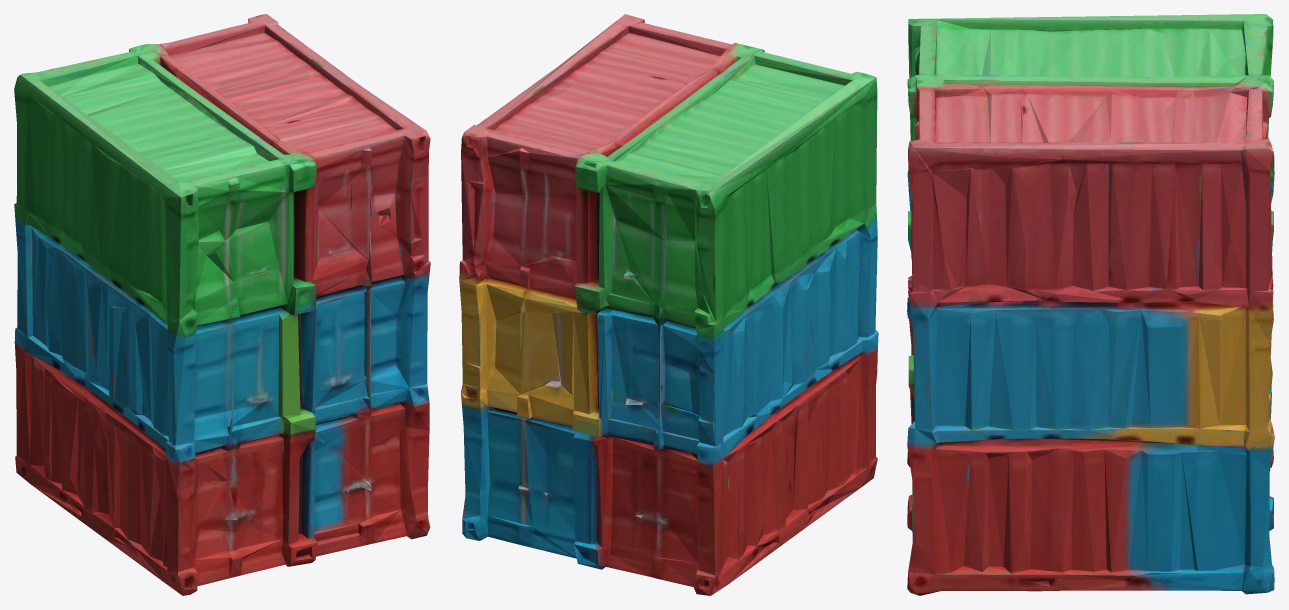
File: containers.glb
The picture shows the model from 3 angles, left to right: view 1: azimuth 30°, elevation 25°; view 2: azimuth 150°, elevation 25°; view 3: azimuth 270°, elevation 25°; orthographic projection. The views are drawn at different scales.
Visible parts, largest first — view 1: geometry_0; view 2: geometry_0; view 3: geometry_0.
Boxes of the visible parts, x1,y1,x2,y2 form: geometry_0: (14,14,430,595); geometry_0: (459,14,878,595); geometry_0: (907,14,1274,595).
Size of the model in its own units: 0.3953 by 0.5974 by 0.4435.
1 material, 1 textured.
